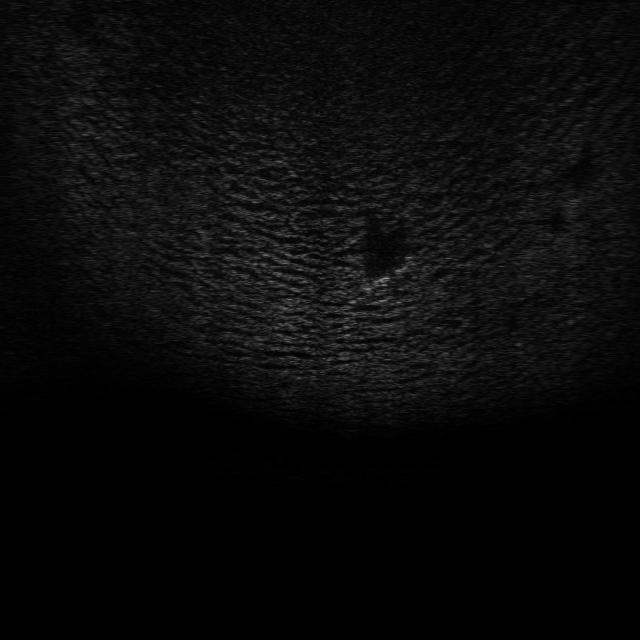plane: (354, 251, 418, 297)
